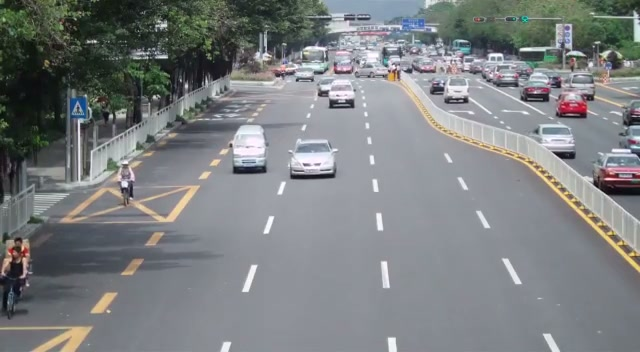car: (592, 151, 640, 194), (288, 138, 338, 179), (231, 124, 268, 173), (529, 123, 577, 159), (567, 73, 596, 102), (555, 93, 588, 118), (328, 81, 356, 109), (443, 76, 470, 104), (619, 125, 640, 154), (492, 67, 519, 87), (521, 84, 550, 102), (622, 100, 640, 126), (318, 78, 336, 96), (294, 69, 315, 83), (430, 77, 446, 94)
pedestrian: (0, 241, 25, 310), (118, 160, 135, 202)
